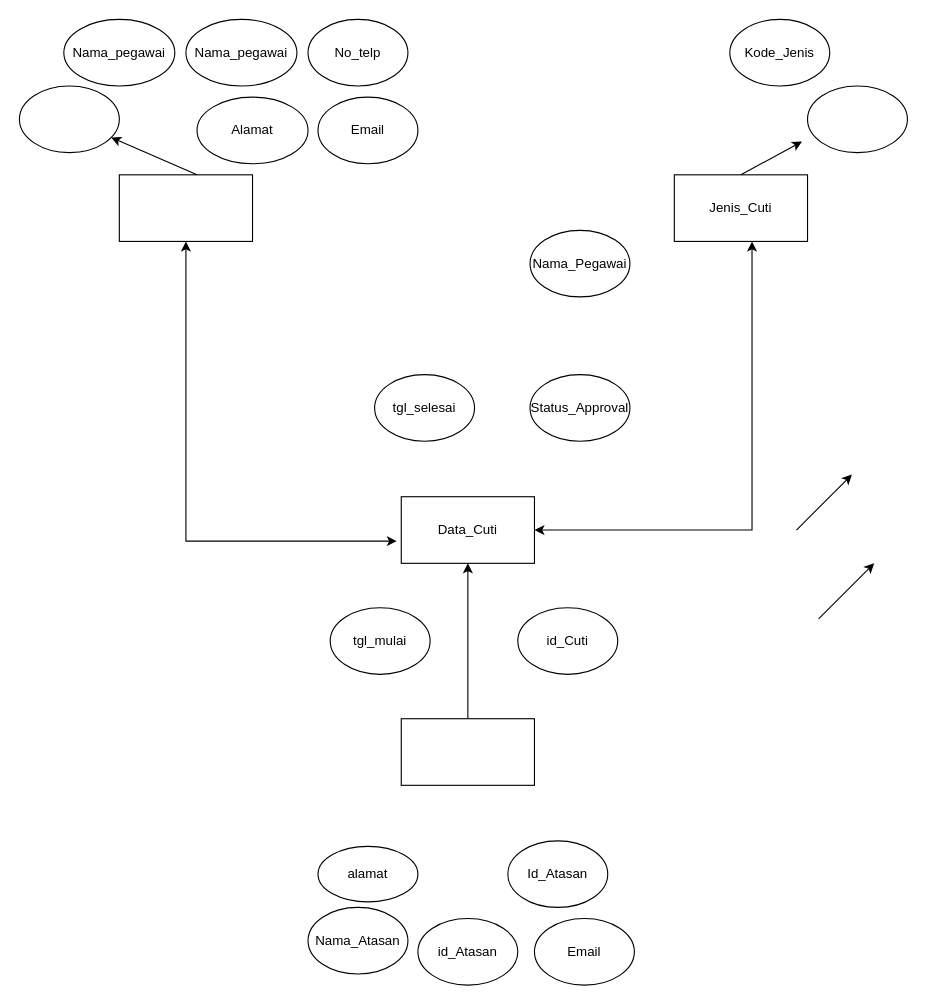
The diagram is 927 pixels wide and 1005 high, and some of its shapes have lost their labels. Here are the shapes that lost their labels. From the top down, the box of each, then its label:
(18, 85, 119, 153): id_Pegawai
(806, 85, 907, 153): id_Jenis
(118, 174, 253, 241): Pegawai
(400, 718, 534, 785): Atasan
